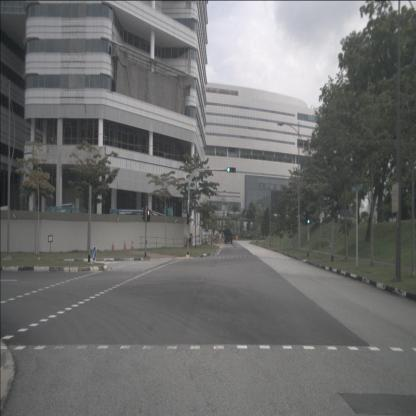cone: (111, 241, 115, 251), (123, 241, 127, 250), (131, 240, 134, 250)
